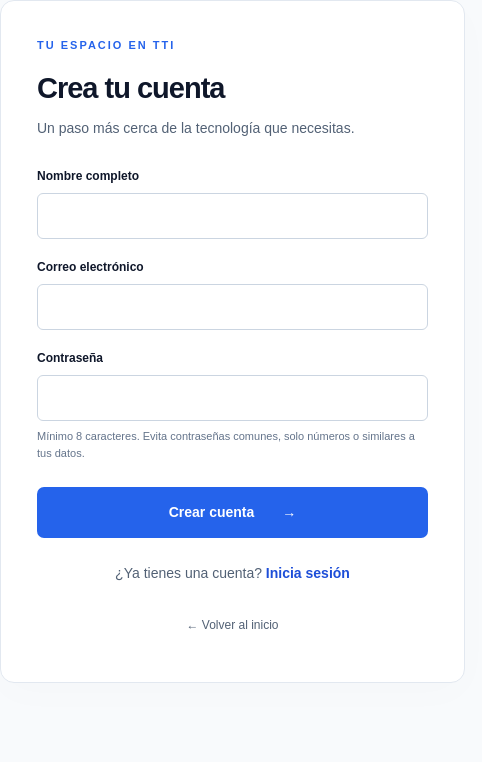
duplicate email is displayed
In the field labelled "Nombre completo": (232, 216) [37, 193, 428, 239], type "Ana Torres"
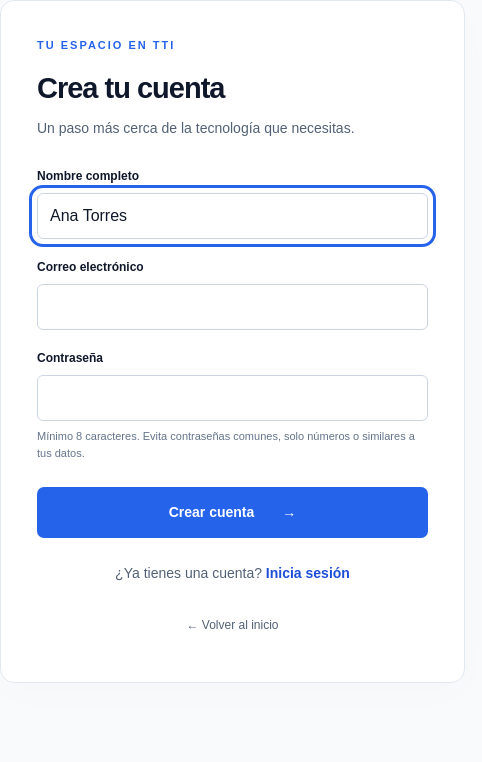
In the field labelled "Correo electrónico": (232, 307) [37, 284, 428, 330], type "ana@example.com"
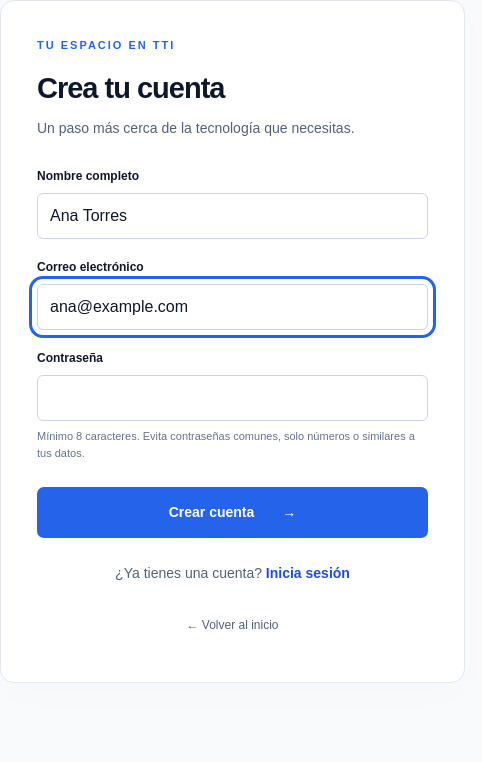
In the password field labelled "Contraseña": (232, 398) [37, 375, 428, 421], type "Una-clave!Distinta8472"
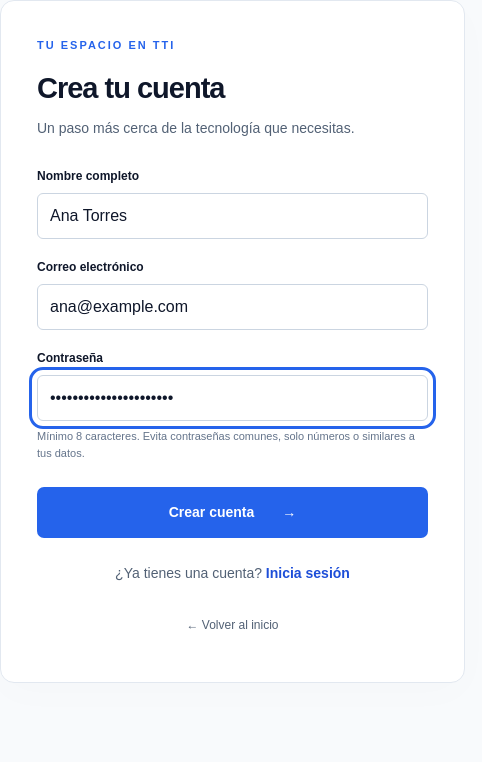
Click the button "Crear cuenta →": (232, 512) [37, 487, 428, 538]
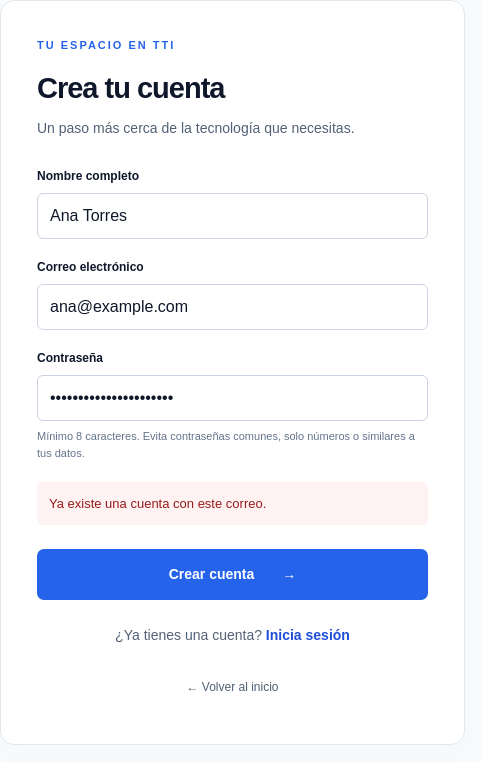
Check: the message shows "Ya existe una cuenta", box [49, 496, 266, 511]
